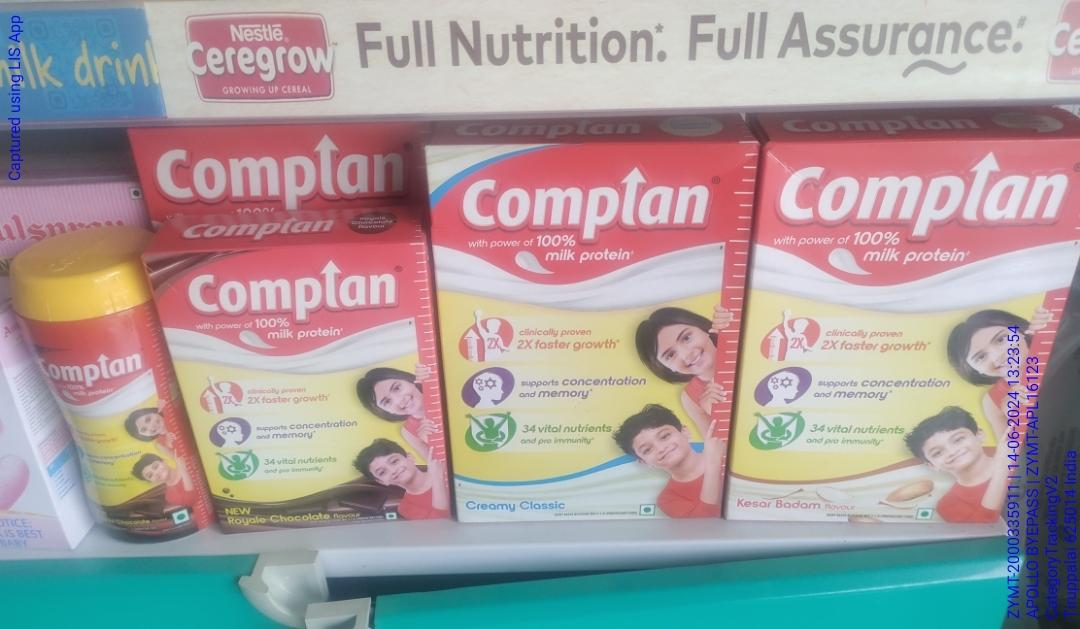COMPLAN_CHOCOLATE_200_GMS_PACK: (215, 246, 434, 531)
COMPLAN_CREAMY_CLASSIC_500_G_PACK: (452, 142, 739, 527)
COMPLAN_KESAR_BADAM_500_GMS_PACK: (752, 143, 1080, 527)
